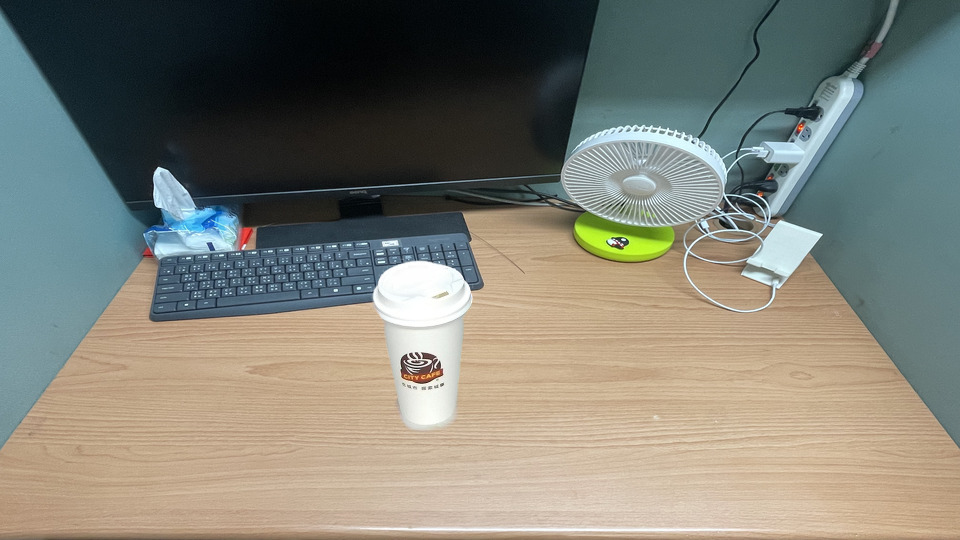blade: (301, 389, 355, 470)
round_grasp: (338, 342, 394, 395)
